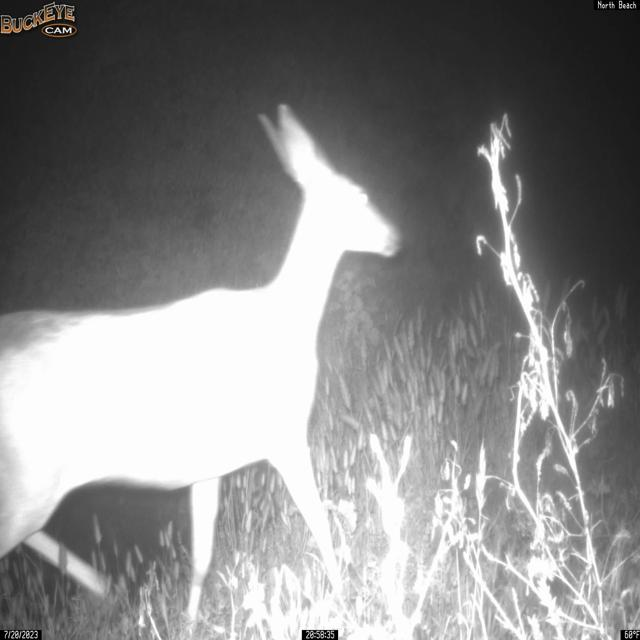deer: (0, 102, 404, 640)
